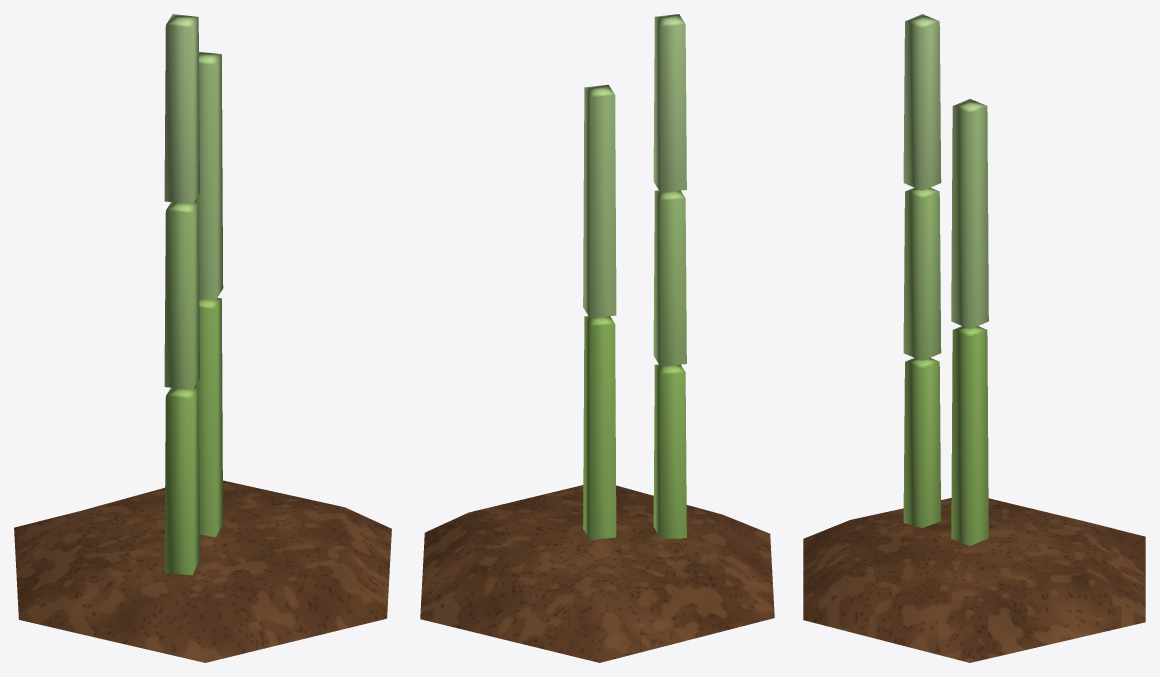
Rendered from plant-bamboo-1-far.glb.
The picture shows the model from 3 angles, left to right: view 1: azimuth 30°, elevation 25°; view 2: azimuth 150°, elevation 25°; view 3: azimuth 270°, elevation 25°; orthographic projection. The views are drawn at different scales.
Parts seen in each view (by area): view 1: plant-bamboo-1-far; view 2: plant-bamboo-1-far; view 3: plant-bamboo-1-far.
Part boxes in pixels (left/top/right/bottom): plant-bamboo-1-far: left=14, top=14, right=391, bottom=662; plant-bamboo-1-far: left=420, top=14, right=774, bottom=662; plant-bamboo-1-far: left=803, top=14, right=1145, bottom=662.
Size of the model in its own units: 0.84 by 1.26 by 0.7275.
Materials: 3 (1 with a texture image).
